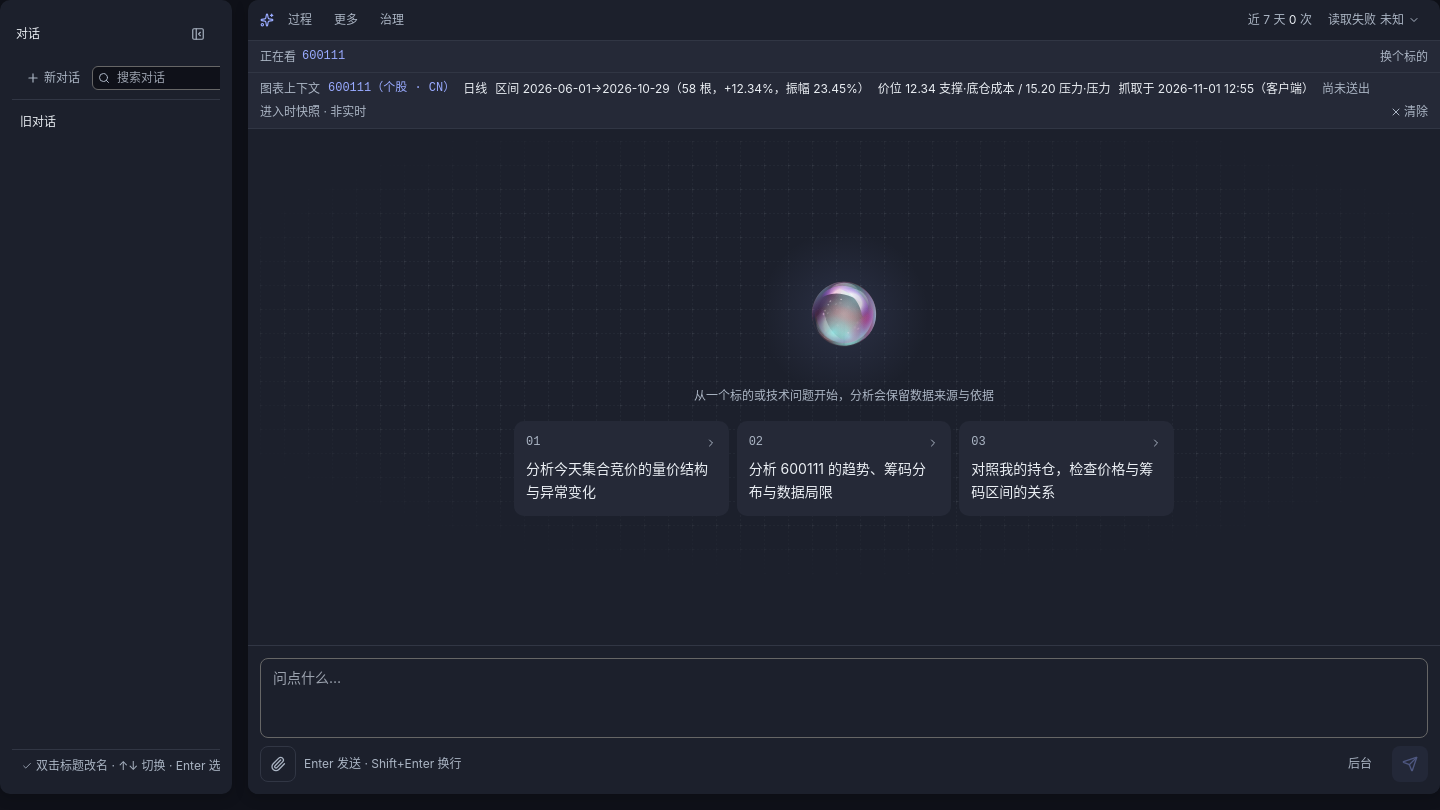
Test case: 发问时才把上下文送进会话 › 用户改问另一只票 → 工作台那张图的上下文立刻失效，不跟着发出去
The image size is (1440, 810).
Check: the element with test id "copilot-chart-context" is shown, box [248,73,1439,129]
Check: the button named "发送" is shown, box [1392,746,1428,782]
Step 1. Type "000776 怎么样" into the text box with placeholder "问点什么…" → (844, 698), box [260,658,1428,738]
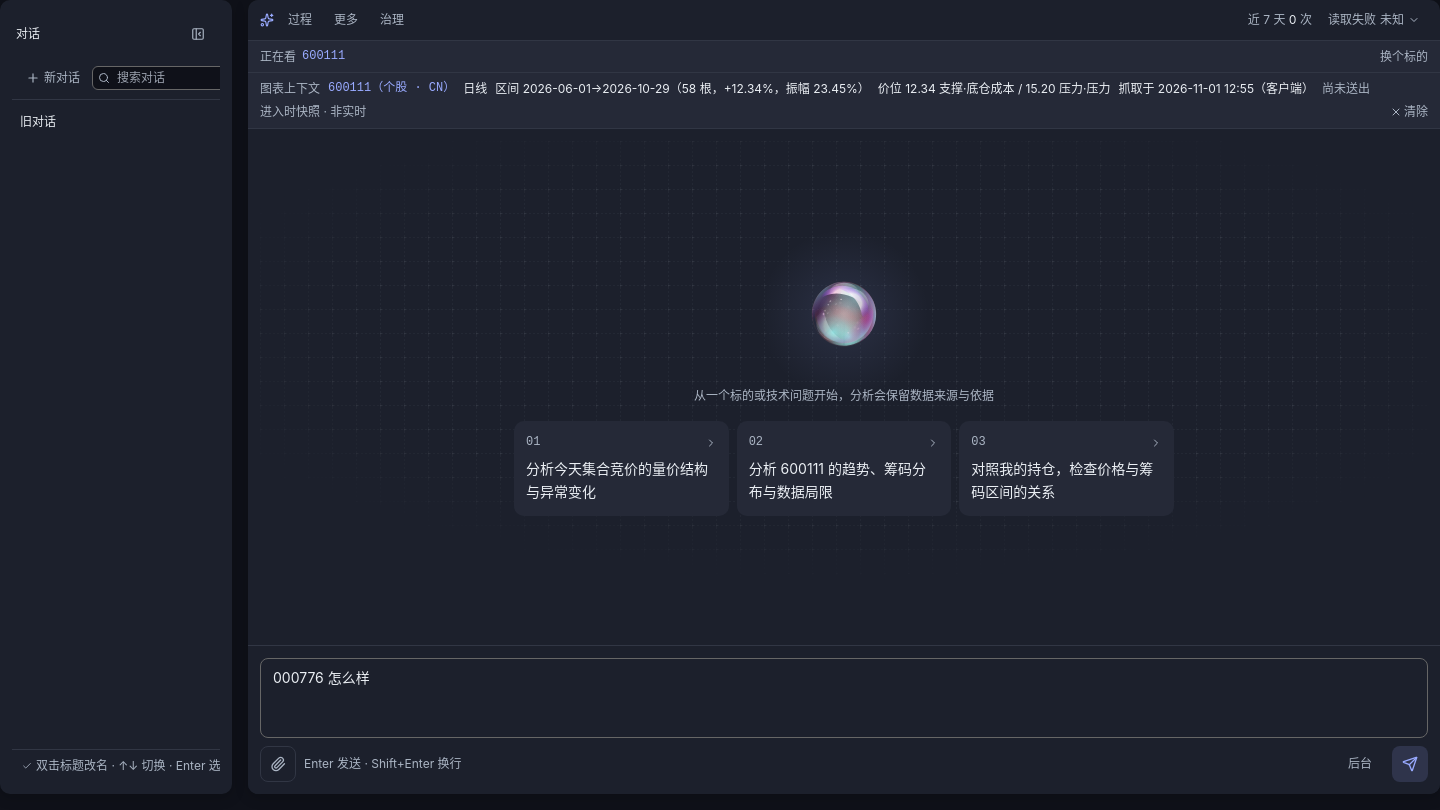
Step 2. Click the button named "发送" → (1410, 764), box [1392,746,1428,782]
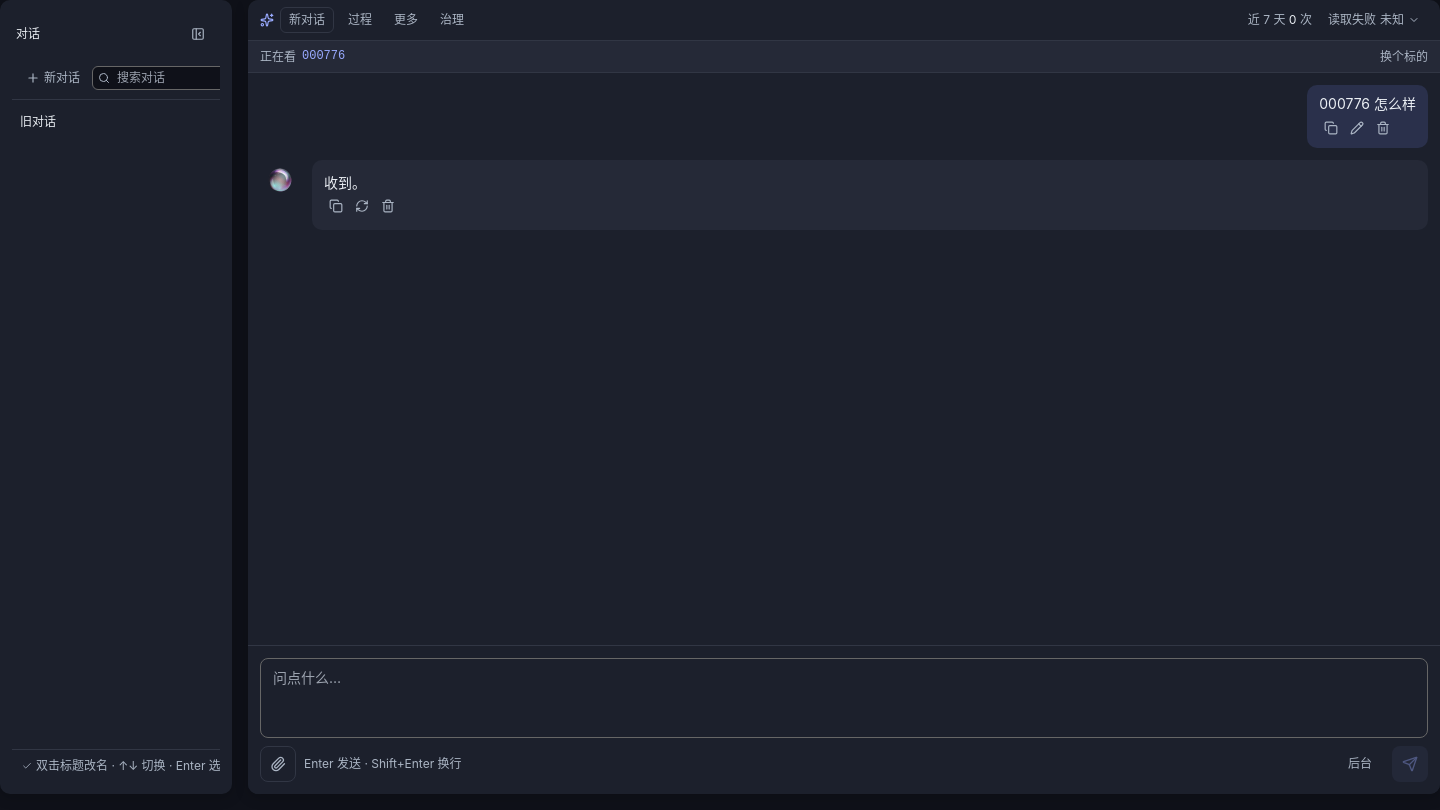
Check: the element with test id "copilot-chart-context" is gone
